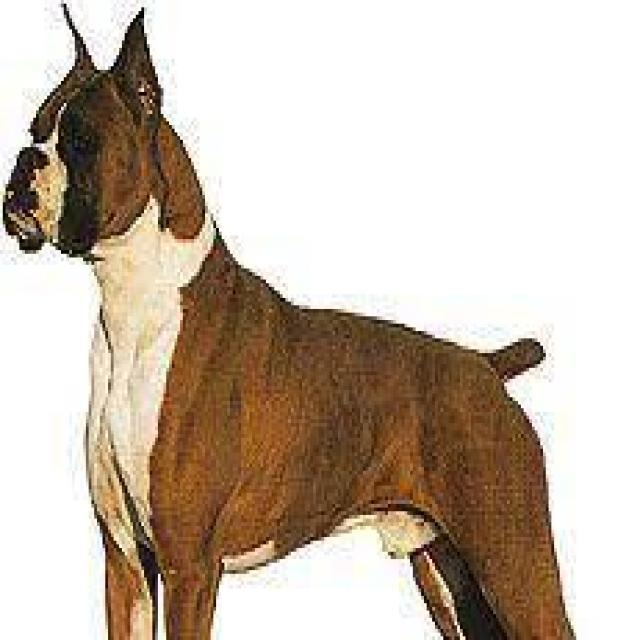dog: (11, 51, 322, 466)
